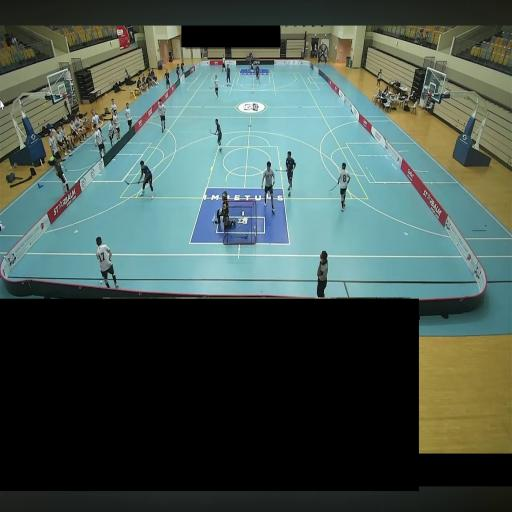Goalkeeper: (215, 191, 235, 231), (251, 54, 254, 70)
Player: (96, 237, 119, 288), (261, 161, 275, 212), (337, 163, 350, 211), (138, 160, 154, 198), (286, 151, 296, 195), (214, 119, 221, 152), (158, 100, 165, 133), (214, 76, 219, 97), (226, 64, 230, 86), (256, 65, 259, 81)
Referee: (317, 250, 328, 297), (222, 57, 225, 72)
ball: (100, 280, 103, 284)
